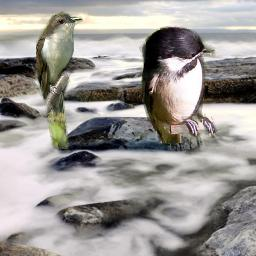Cuckoo: (36, 9, 83, 149)
Swallow: (139, 23, 219, 143)
